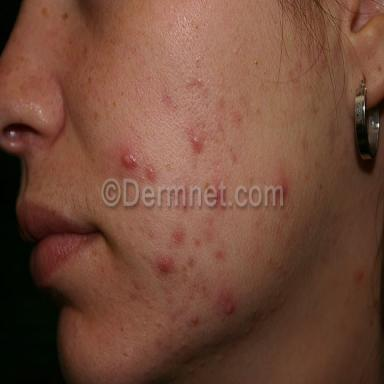acne: (219, 288, 235, 315), (157, 255, 175, 273), (121, 150, 137, 169), (171, 228, 185, 244), (191, 136, 203, 153), (145, 164, 156, 181), (214, 249, 225, 261), (191, 315, 198, 324)
